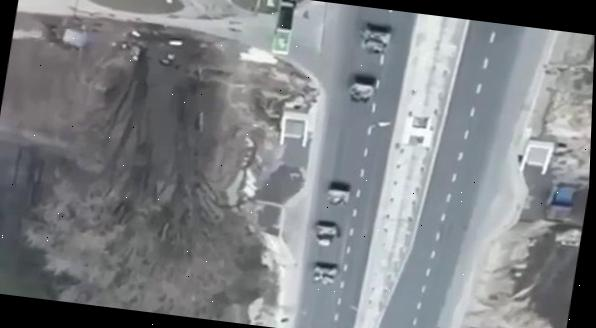tank: (342, 71, 379, 107), (356, 23, 393, 56), (310, 218, 342, 251), (319, 180, 355, 208), (311, 262, 338, 285)
